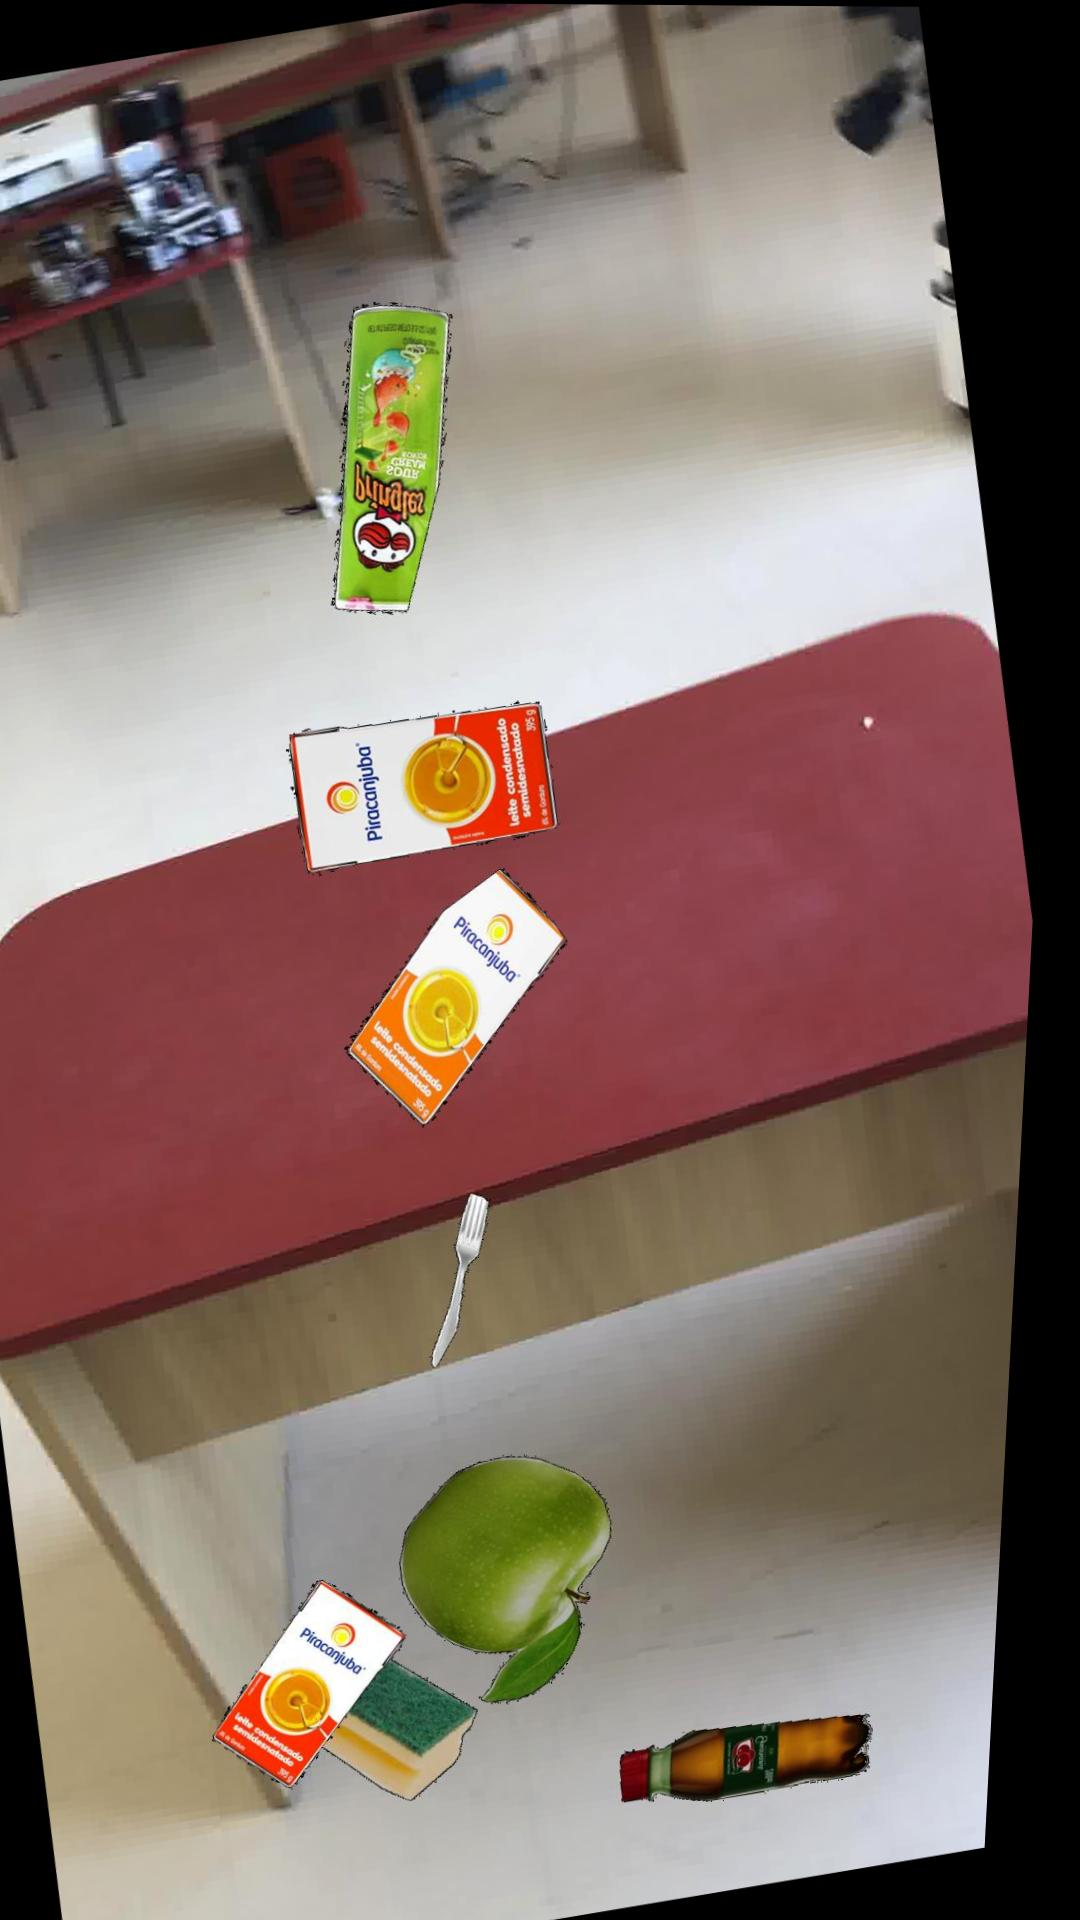fork: (446, 1189, 502, 1365)
green apple: (417, 1453, 629, 1700)
guarana: (640, 1709, 891, 1797)
pringles: (338, 301, 452, 611)
sponge: (342, 1656, 497, 1797)
